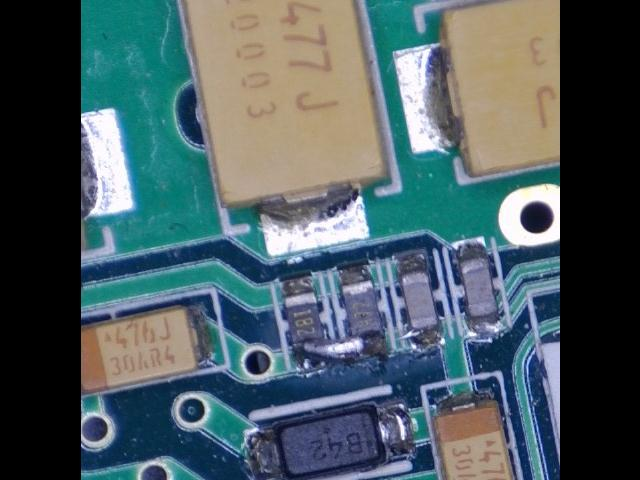Short_circuit: (293, 323, 388, 373)
